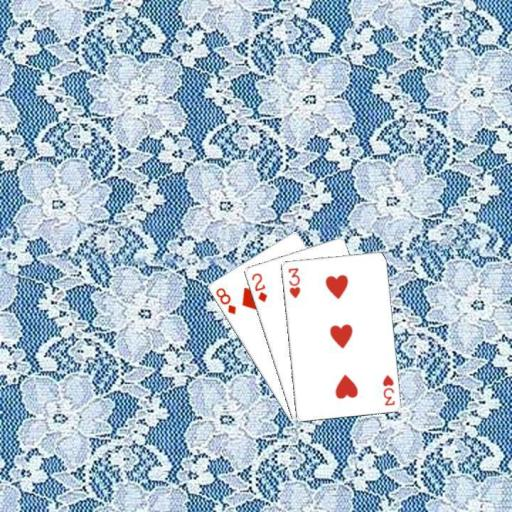2D: (248, 270, 269, 304)
3H: (379, 371, 396, 407), (285, 265, 302, 300)
8D: (212, 284, 237, 316)
